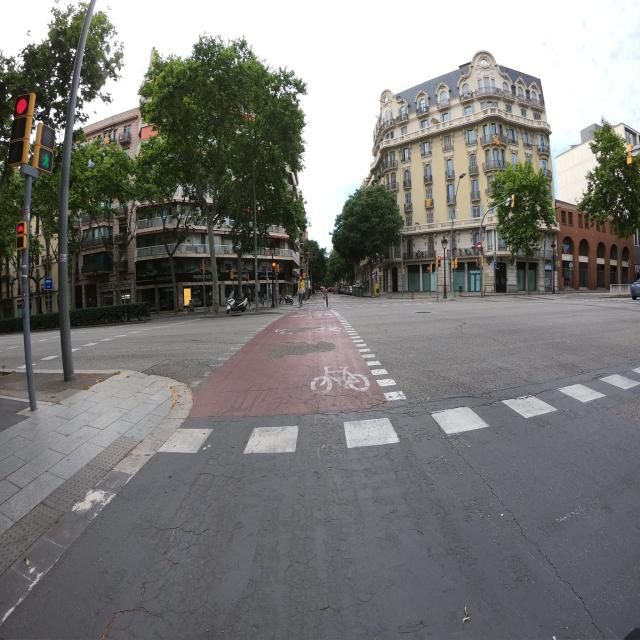bike: (224, 292, 249, 315), (284, 293, 294, 304), (298, 292, 303, 308)
car: (630, 270, 640, 302)
